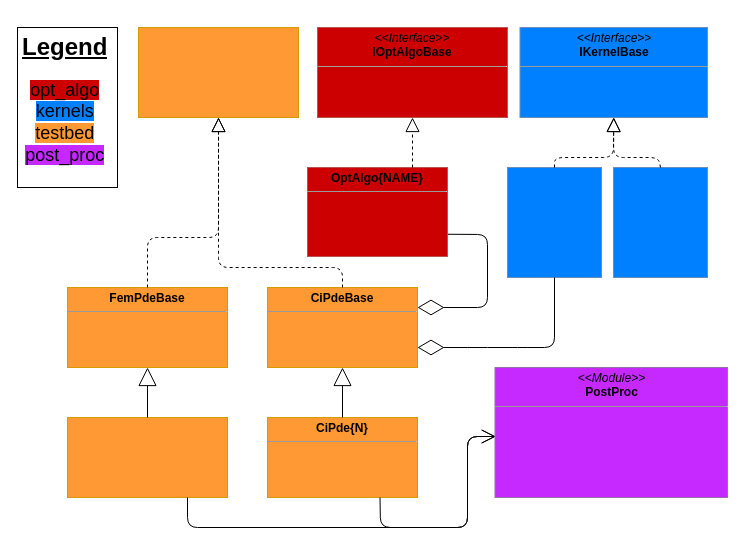
Some shapes in this 745 by 559 pixel diagram are drawn without their labels. Each missing label, with the centre of its shape:
"<<Interface>> ITestbenchBase" belongs at (x=218, y=72).
"FemPde{N}" belongs at (x=147, y=457).
"KernelGauss" belongs at (x=554, y=222).
"KernelGsin" belongs at (x=660, y=222).
